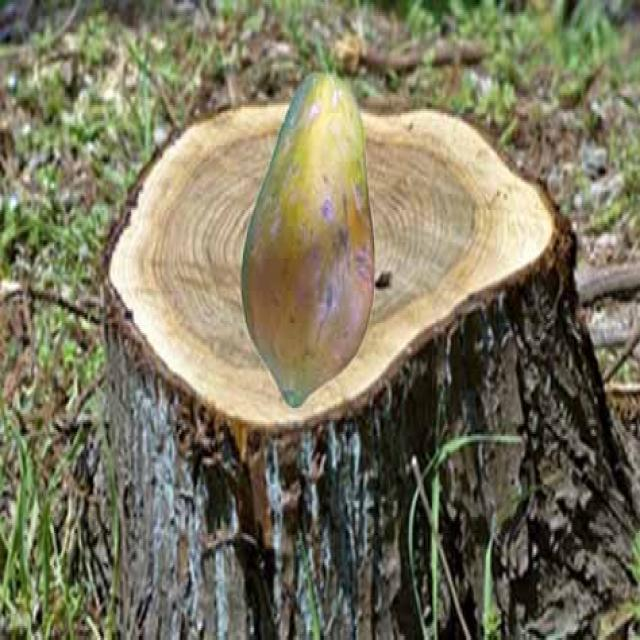Pepaya rippen: (239, 56, 382, 414)
